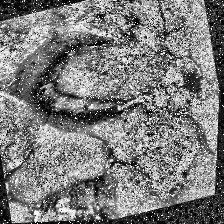pothole: (0, 20, 134, 148), (27, 173, 120, 223)
